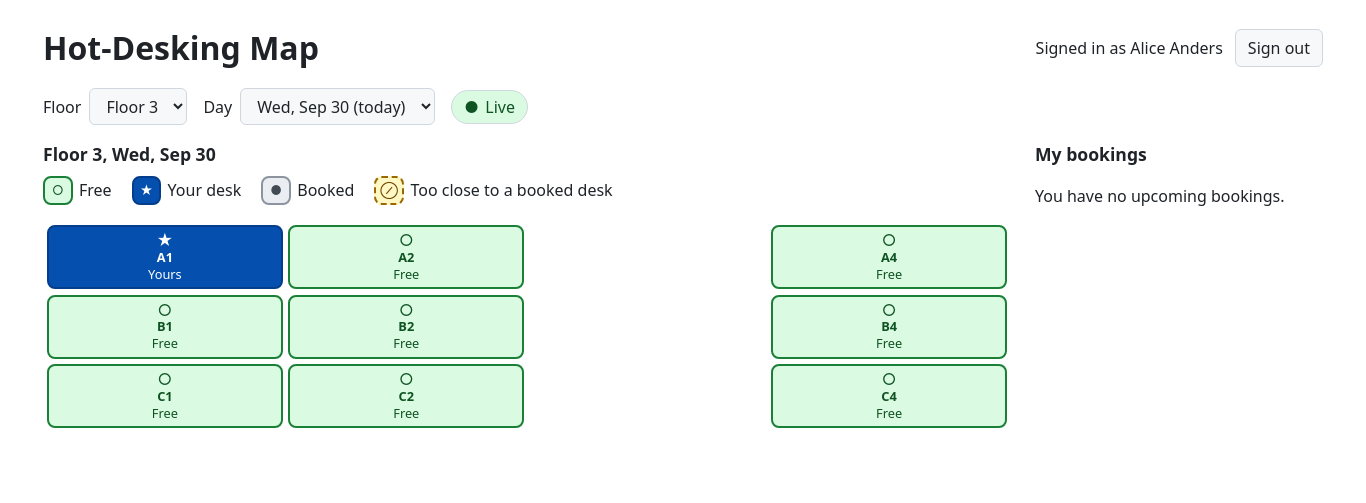
Test: optimistic booking › cancels your own desk optimistically and rolls back on failure
This screenshot has width=1366, height=503.
Expected: the table is shown, [47,225,1007,428]
Click the button "★ A1 Yours" at [165, 257], box [47,225,283,289]
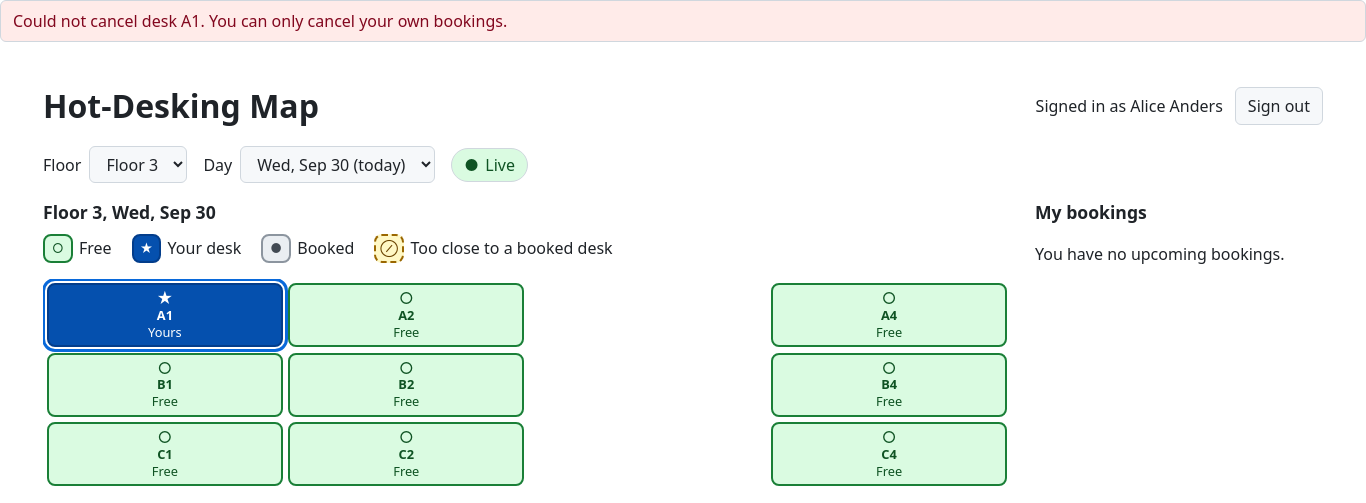
Expected: the message reads "Could not cancel desk A1. You can only cancel your own bookings.", [13,10,507,32]
